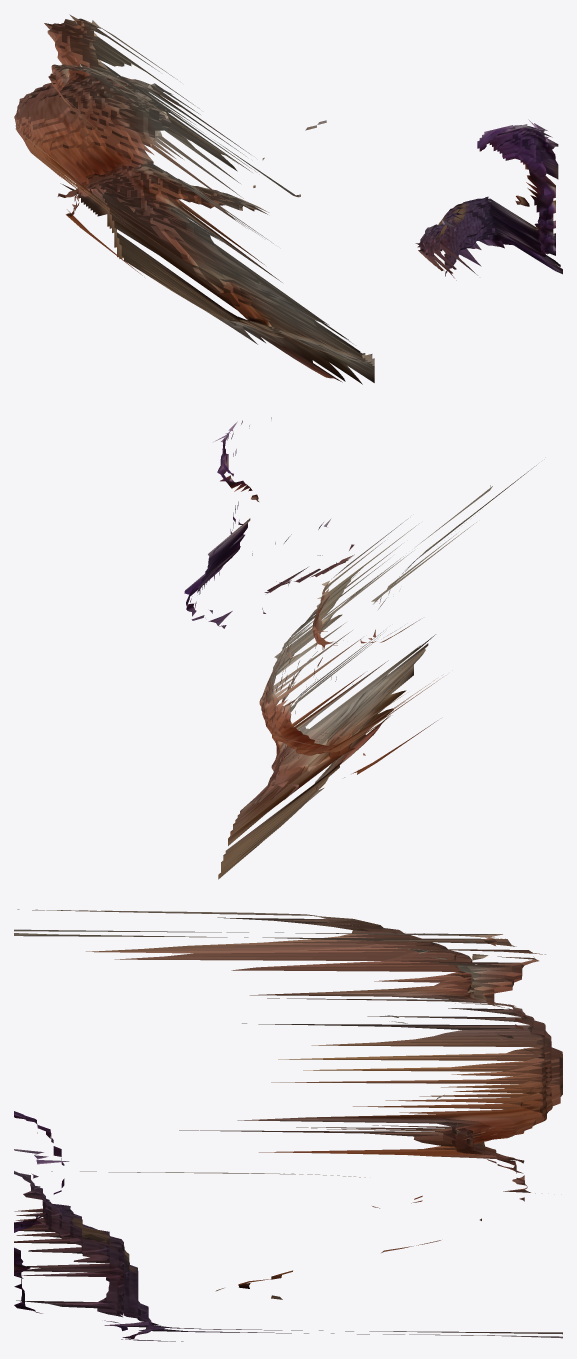
Rendered from frame_00299.glb.
3 renders of one model, top to bottom at view 1: azimuth 30°, elevation 25°; view 2: azimuth 150°, elevation 25°; view 3: azimuth 270°, elevation 25°, orthographic. The views are drawn at different scales.
Parts seen in each view (by area): view 1: geometry_0; view 2: geometry_0; view 3: geometry_0.
Part boxes in pixels (bbox=[...]): geometry_0: bbox=[14, 14, 562, 384]; geometry_0: bbox=[184, 417, 536, 879]; geometry_0: bbox=[14, 909, 562, 1341].
Bounding box in the file's own units: 0.1407 × 0.1134 × 0.16.
1 material, 1 textured.
